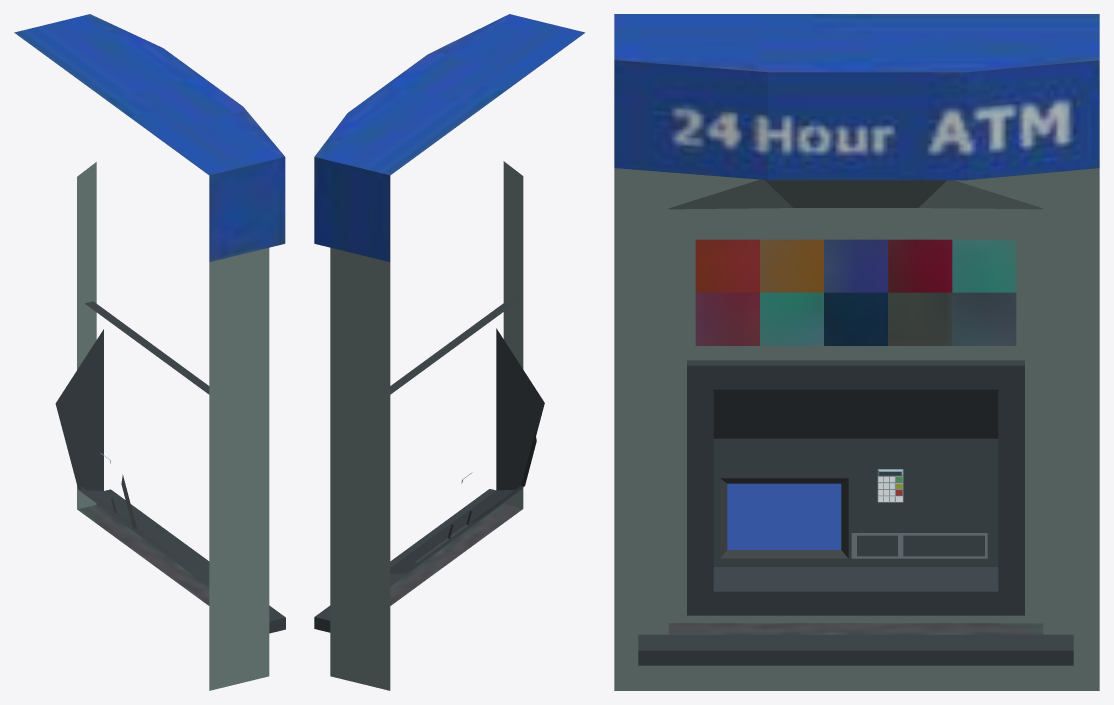
Rendered from bank_2.glb.
The picture shows the model from 3 angles, left to right: view 1: azimuth 30°, elevation 25°; view 2: azimuth 150°, elevation 25°; view 3: azimuth 270°, elevation 25°; orthographic projection. The views are drawn at different scales.
Visible parts, largest first — view 1: ATM; view 2: ATM; view 3: ATM.
Boxes of the visible parts, x1=… form: ATM: x1=14, y1=14, x2=285, y2=690; ATM: x1=314, y1=14, x2=585, y2=690; ATM: x1=614, y1=14, x2=1099, y2=690.
Bounding box in the file's own units: 0.2716 × 1.39 × 0.9555.
1 material, 1 textured.
